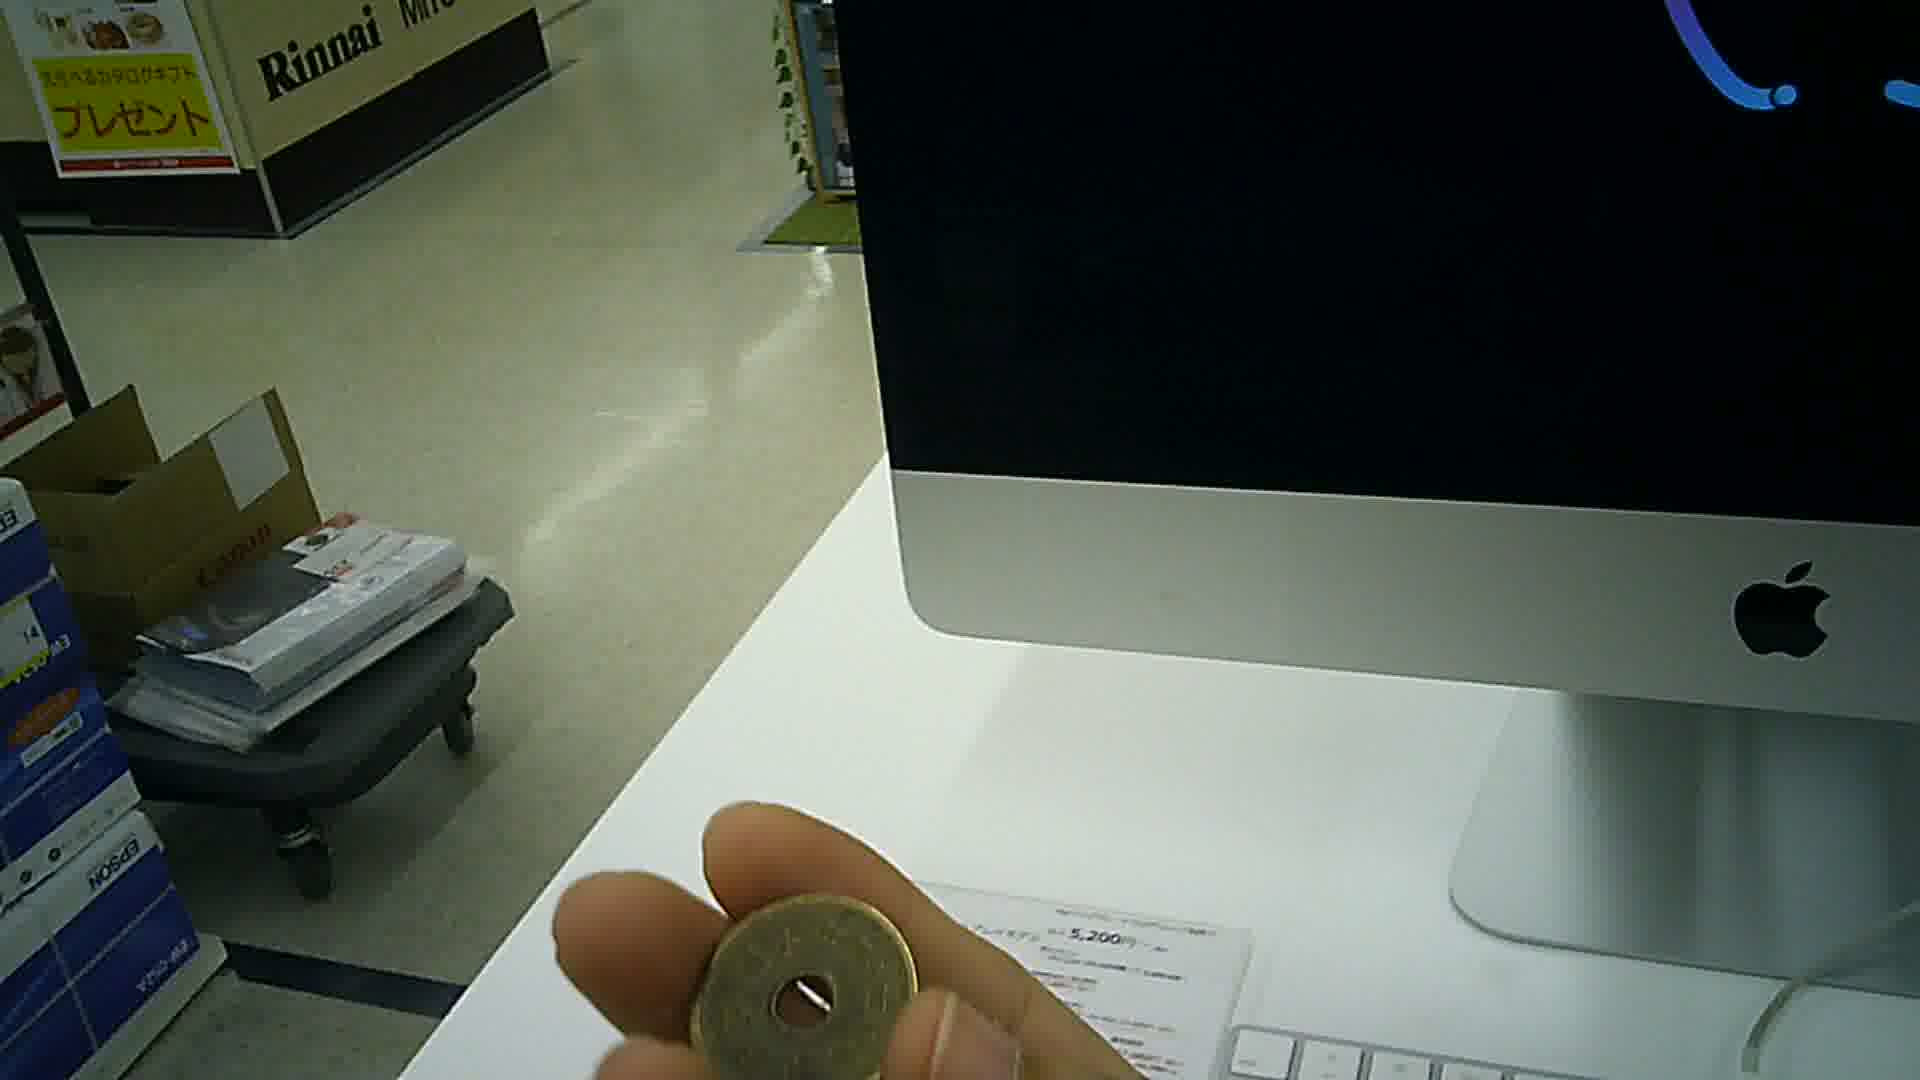5 Yen: (686, 894, 926, 1079)
